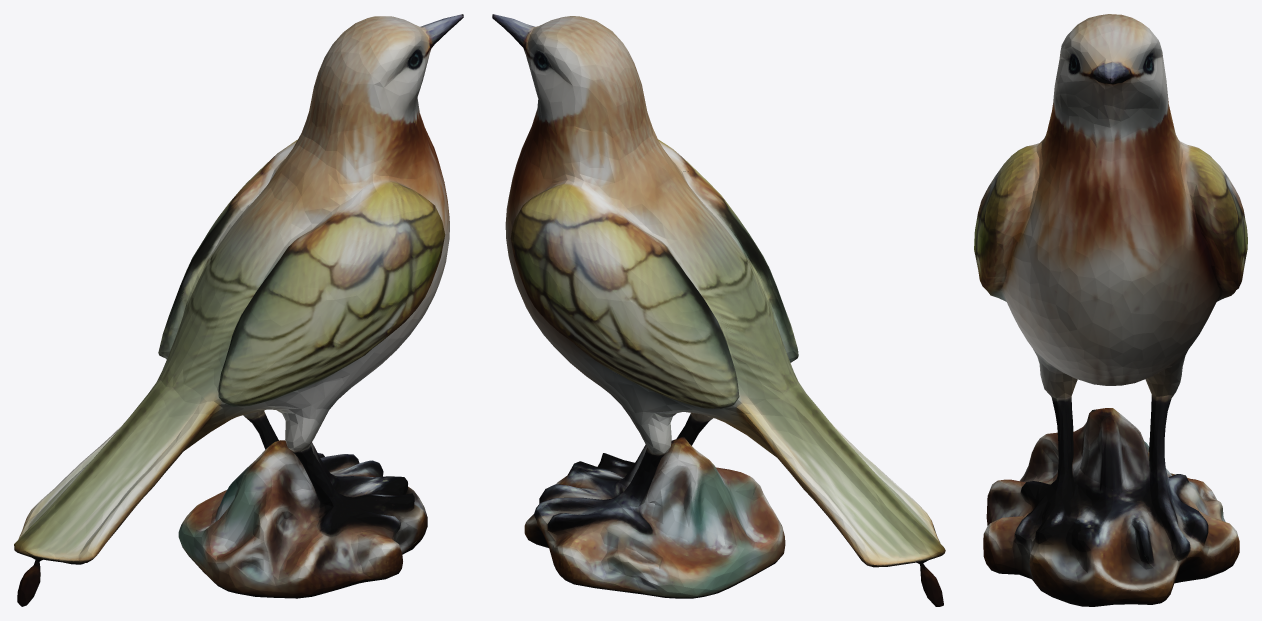
The model's file is porcelain-bird-statue-rustic.jpeg.glb.
The picture shows the model from 3 angles, left to right: view 1: azimuth 30°, elevation 25°; view 2: azimuth 150°, elevation 25°; view 3: azimuth 270°, elevation 25°; orthographic projection. The views are drawn at different scales.
Parts seen in each view (by area): view 1: world; view 2: world; view 3: world.
Part boxes in pixels (box(x1,y1,x2,y2)): world: box(14, 14, 463, 606); world: box(492, 14, 945, 606); world: box(974, 14, 1247, 606).
Bounding box in the file's own units: 0.9276 × 1 × 0.4334.
Materials: 1 (1 with a texture image).
